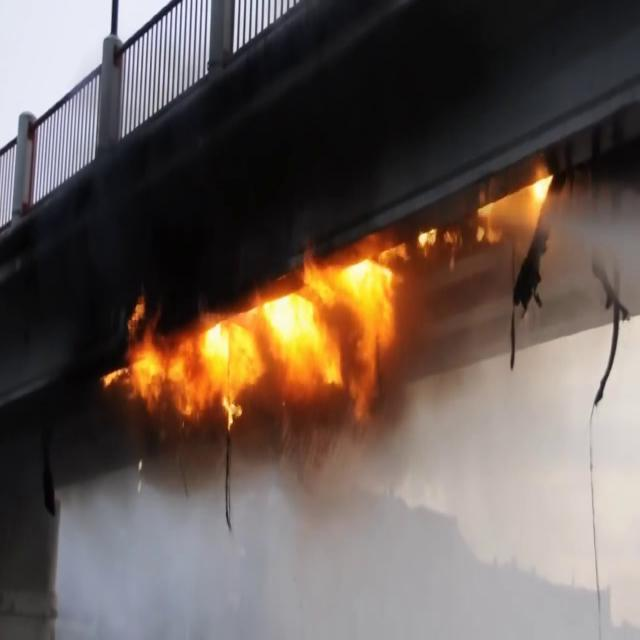Fire: (121, 240, 417, 420), (523, 164, 555, 214)
